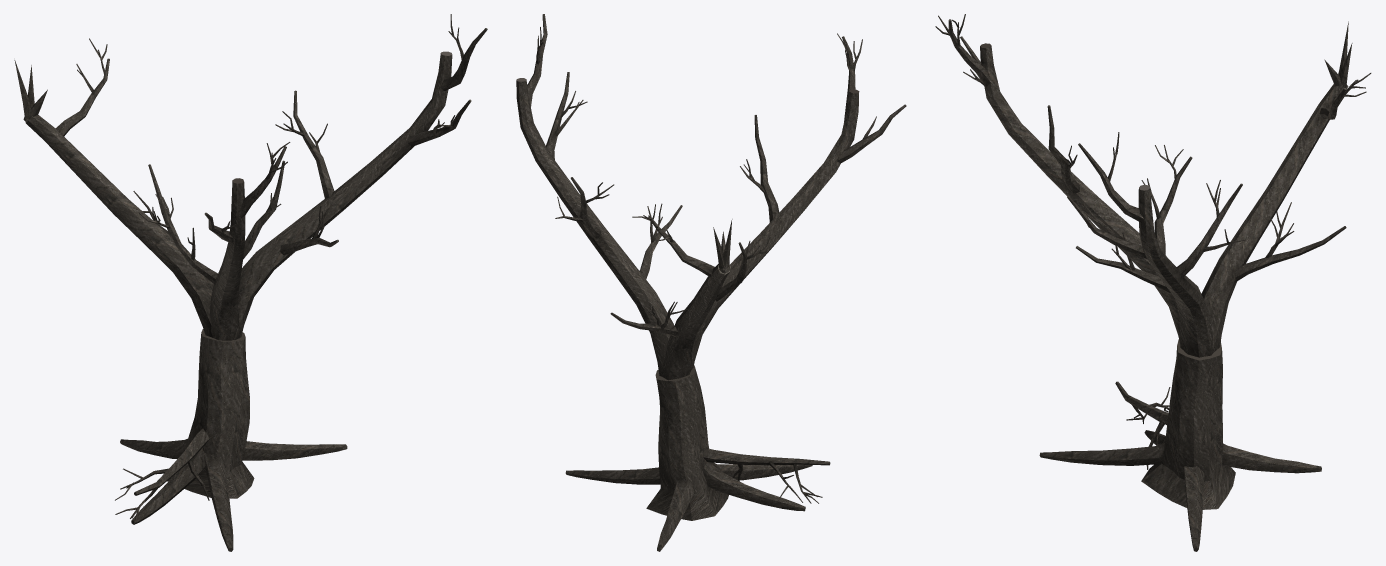
Rendered from dead_tree_b.glb.
The picture shows the model from 3 angles, left to right: view 1: azimuth 30°, elevation 25°; view 2: azimuth 150°, elevation 25°; view 3: azimuth 270°, elevation 25°; orthographic projection. The views are drawn at different scales.
Visible parts, largest first — view 1: dead_tree_b; view 2: dead_tree_b; view 3: dead_tree_b.
Boxes of the visible parts, bbox=[...] form: dead_tree_b: bbox=[14, 14, 487, 551]; dead_tree_b: bbox=[516, 14, 906, 551]; dead_tree_b: bbox=[935, 14, 1371, 551].
Bounding box in the file's own units: 5.78 × 7.33 × 6.32.
Materials: 1 (1 with a texture image).
